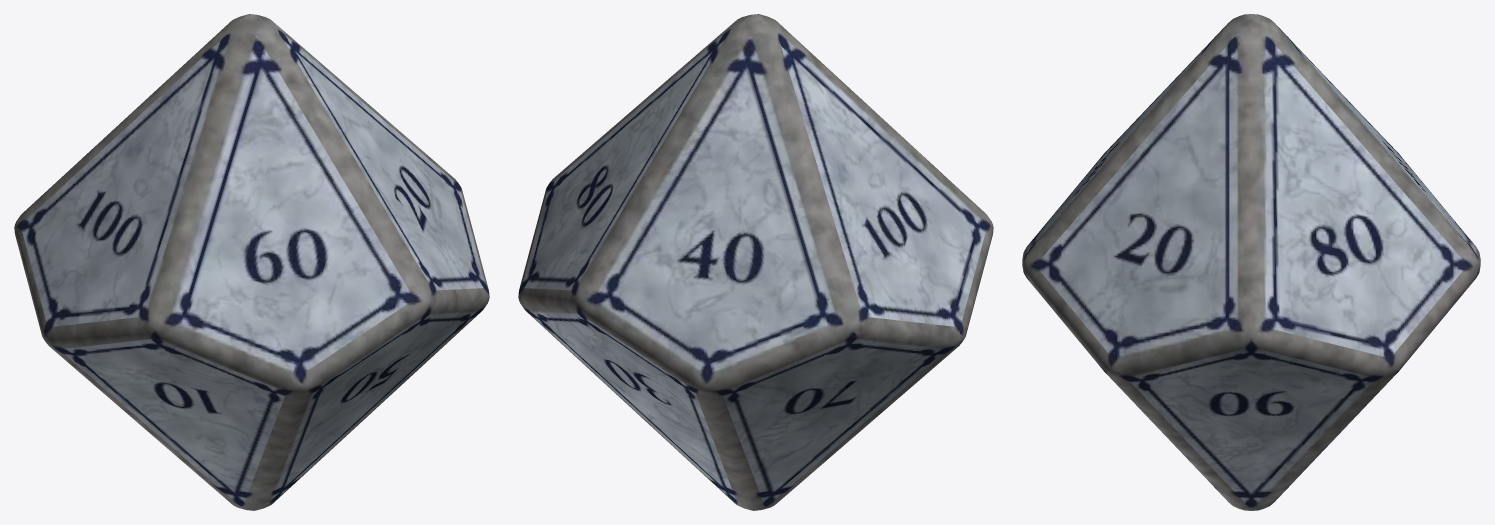
Rendered from nord-d100.glb.
3 renders of one model, left to right at view 1: azimuth 30°, elevation 25°; view 2: azimuth 150°, elevation 25°; view 3: azimuth 270°, elevation 25°, orthographic.
Parts seen in each view (by area): view 1: nord_d100; view 2: nord_d100; view 3: nord_d100.
Boxes of the visible parts, x1,y1,x2,y2 form: nord_d100: [14, 14, 489, 510]; nord_d100: [518, 14, 993, 510]; nord_d100: [1022, 14, 1480, 510].
Bounding box in the file's own units: 1.66 × 1.91 × 1.59.
1 material, 1 textured.
